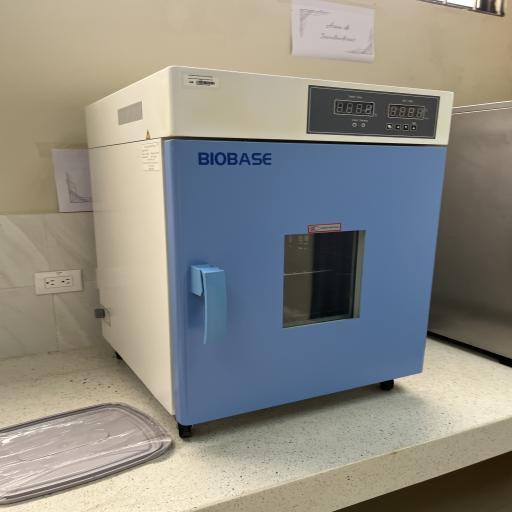Horno_Secado_Biobase: (76, 53, 452, 446)
